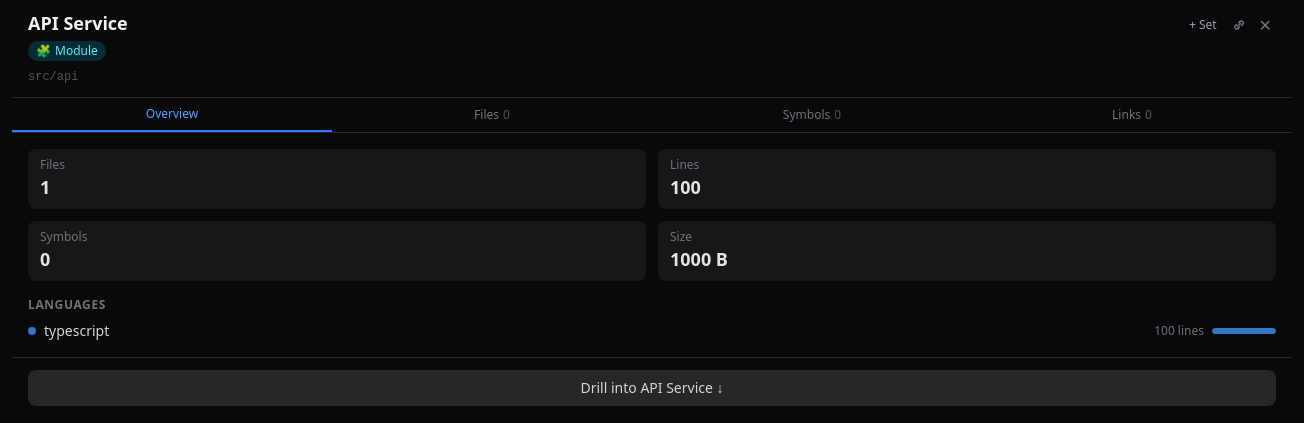
Scenario: DetailPanel split-mode lazy detail (F-CRIT-4) › shows a loading state then renders fetched files and symbols with updated counts
// Files tab: empty before the fetch, so it shows the loading indicator.
Click the button "Files0" at x=492, y=115, box [332,98,652,132]
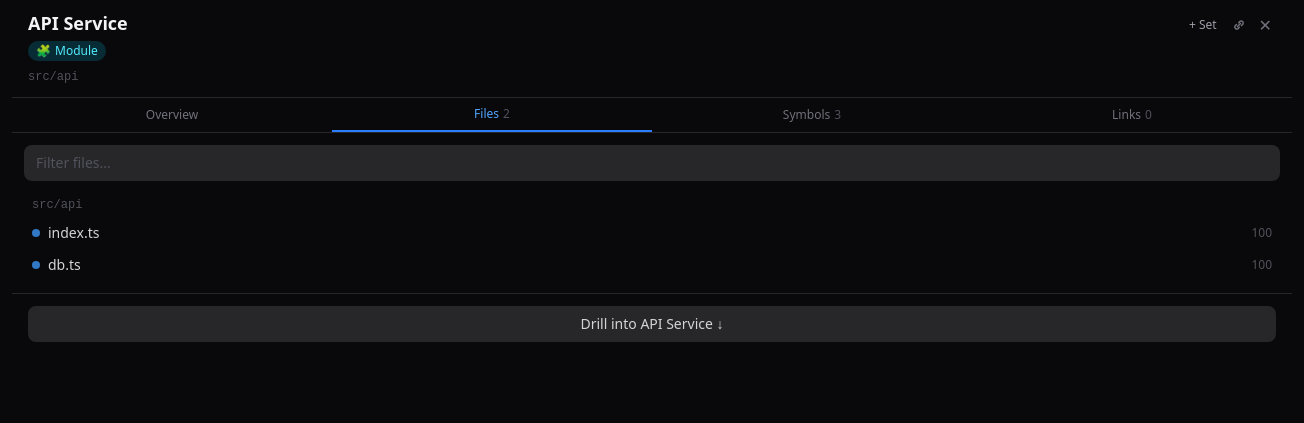
Now the text "index.ts" is shown, box [48,223,99,242]
Now the text "db.ts" is shown, box [48,255,81,274]
Now the button "Files2" is shown, box [332,98,652,132]
// Symbols tab renders the fetched symbols and its count updated to 3.
Click the button "Symbols3" at x=812, y=115, box [652,98,972,132]
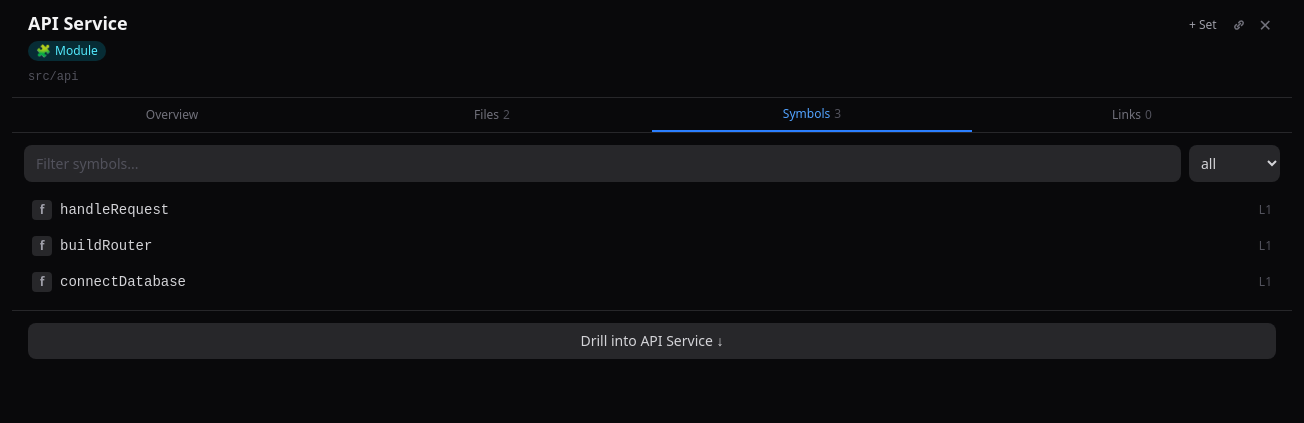
Now the button "Symbols3" is shown, box [652,98,972,132]
Now the text "handleRequest" is shown, box [60,202,169,218]
Now the text "connectDatabase" is shown, box [60,274,186,290]
